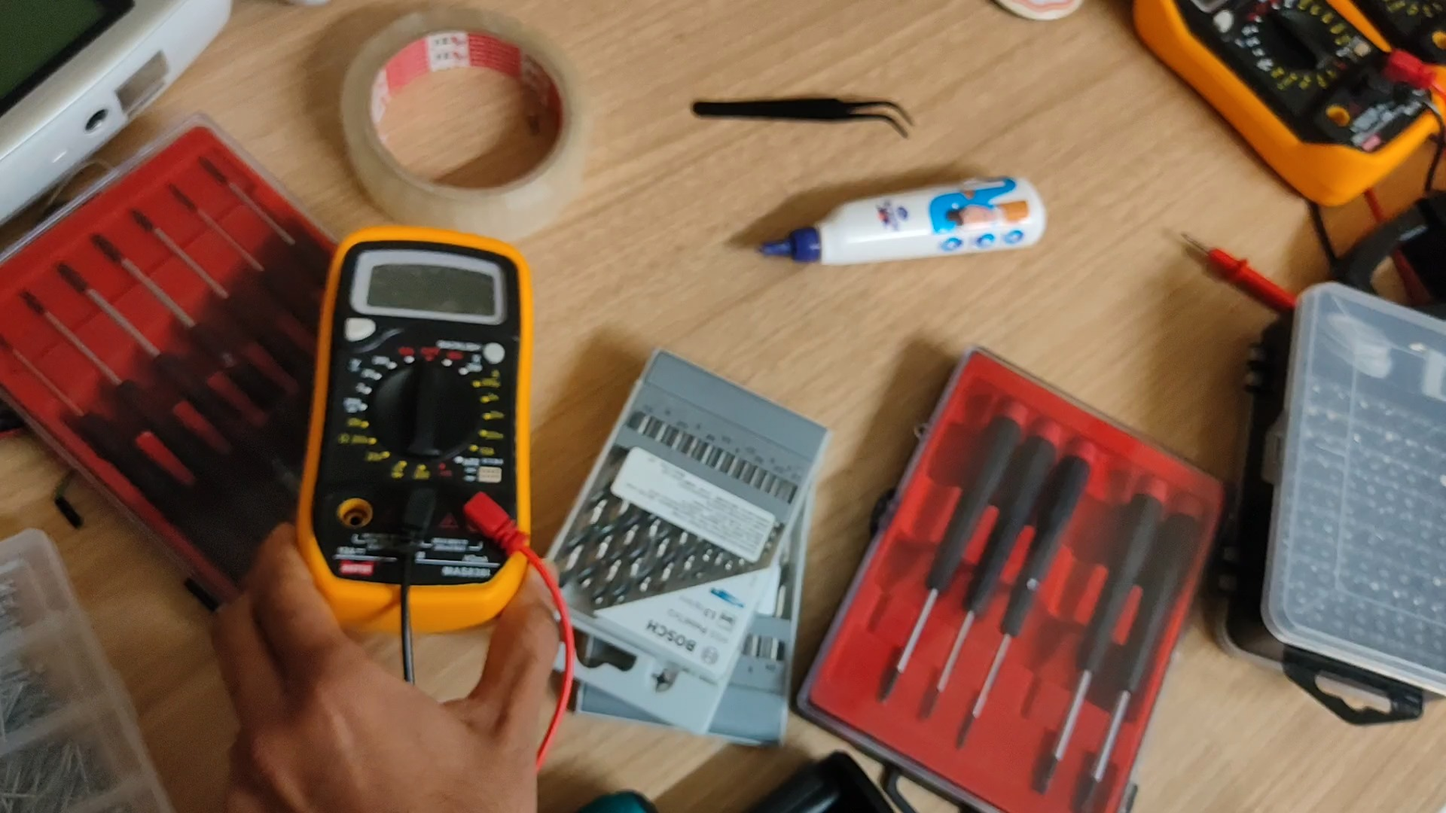multimeter: (75, 166, 475, 632)
